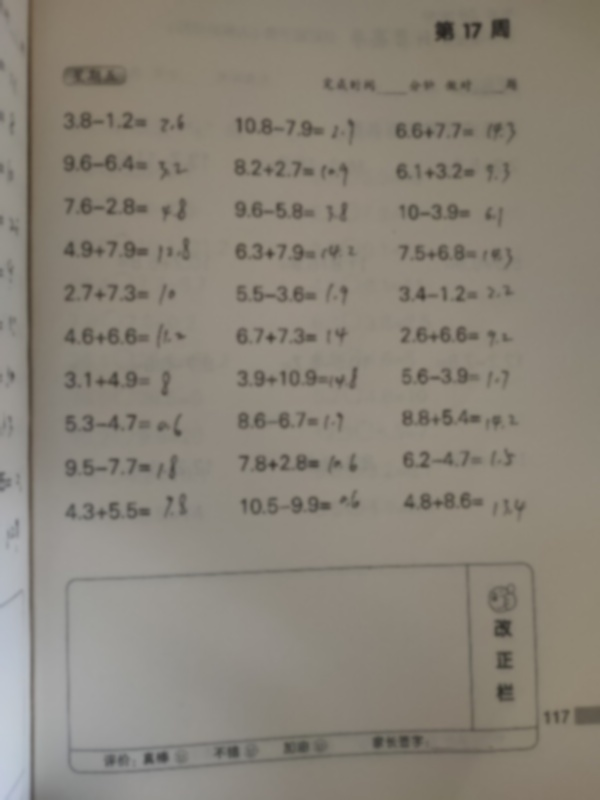equation: (56, 489, 197, 532), (219, 445, 368, 483), (229, 108, 363, 148), (231, 485, 372, 523), (391, 276, 529, 313), (383, 113, 533, 147), (59, 408, 195, 444), (61, 453, 196, 489), (225, 153, 361, 188), (387, 403, 527, 435), (228, 319, 361, 352), (61, 276, 193, 309), (57, 323, 197, 353), (233, 281, 364, 313), (397, 443, 528, 475), (56, 235, 197, 264), (401, 488, 529, 519), (228, 200, 356, 231), (392, 193, 515, 225), (391, 156, 517, 187), (59, 152, 191, 180), (231, 239, 372, 265), (235, 364, 361, 393), (62, 368, 174, 399), (395, 241, 520, 268), (60, 195, 189, 221), (60, 108, 187, 134), (397, 322, 516, 349), (398, 363, 512, 390), (234, 408, 346, 434)
